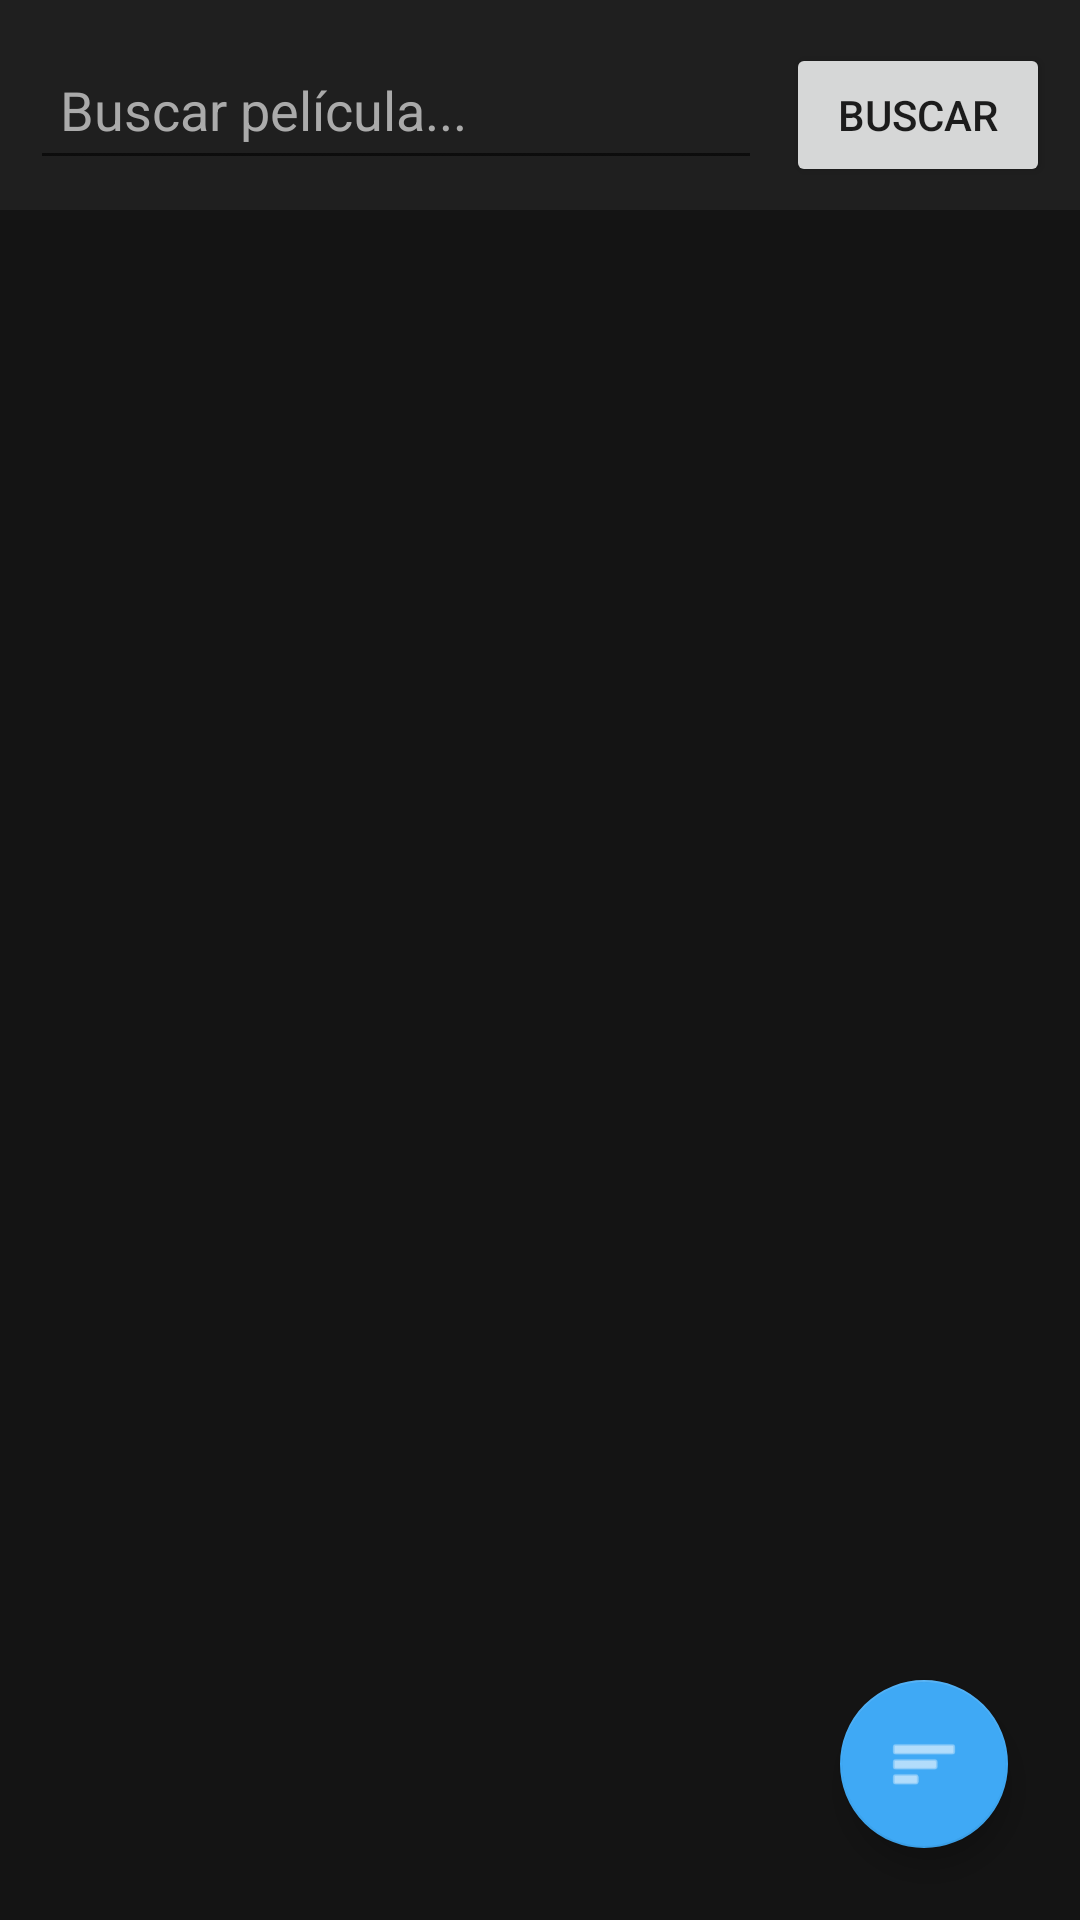

Icons on this 1080×1920 Android screen, each with its box as (x1, y1, x2, y2):
Filtros: (840, 1680, 1008, 1848)
